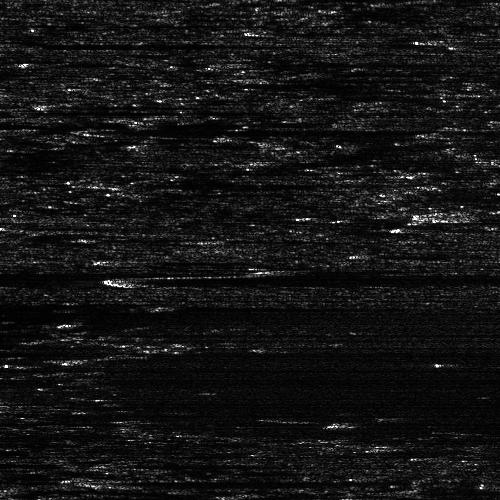rock: (13, 119, 232, 138), (381, 205, 500, 222), (244, 262, 337, 279), (81, 269, 174, 286), (0, 473, 51, 500), (60, 476, 175, 485), (200, 58, 273, 67), (390, 129, 463, 136), (0, 39, 50, 48), (330, 418, 371, 425), (58, 235, 111, 238), (247, 77, 258, 82)
shadow: (123, 119, 462, 138), (128, 269, 500, 286), (25, 473, 157, 500), (291, 262, 500, 279), (0, 119, 392, 128), (118, 476, 394, 485), (237, 58, 500, 67), (0, 39, 260, 48), (0, 129, 292, 136), (253, 77, 463, 82), (351, 418, 447, 425), (427, 129, 500, 136), (85, 235, 149, 238)
